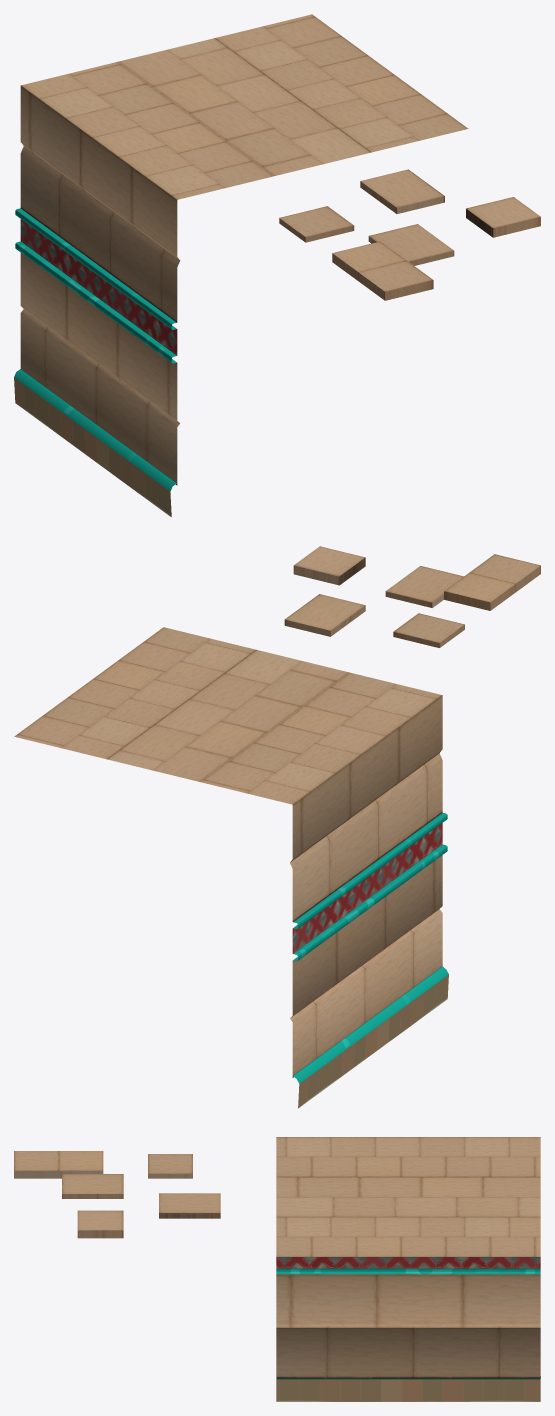
Rendered from Temple_DanceWall.fbx.
The picture shows the model from 3 angles, top to bottom: view 1: azimuth 30°, elevation 25°; view 2: azimuth 150°, elevation 25°; view 3: azimuth 270°, elevation 25°; orthographic projection. The views are drawn at different scales.
Visible parts, largest first — view 1: Cube_004__2_.002, Cube_004__2_.003, Cube_004__2_.001, Cube_004__2_.004, Cube_004__2_.006, Cube_004__2_.007, Cube_004__2_.005; view 2: Cube_004__2_.002, Cube_004__2_.003, Cube_004__2_.001, Cube_004__2_.004, Cube_004__2_.006, Cube_004__2_.007, Cube_004__2_.005; view 3: Cube_004__2_.002, Cube_004__2_.003, Cube_004__2_.001, Cube_004__2_.004, Cube_004__2_.006, Cube_004__2_.007, Cube_004__2_.005.
Part boxes in pixels (x1,y1,x2,y2): Cube_004__2_.002: (15,85,180,485); Cube_004__2_.003: (21,14,468,199); Cube_004__2_.001: (14,369,176,517); Cube_004__2_.004: (332,224,454,300); Cube_004__2_.006: (360,169,444,213); Cube_004__2_.007: (466,197,540,237); Cube_004__2_.005: (279,206,354,242); Cube_004__2_.002: (290,695,447,1077); Cube_004__2_.003: (14,627,442,804); Cube_004__2_.001: (293,966,448,1108); Cube_004__2_.004: (385,554,540,610); Cube_004__2_.006: (284,594,365,636); Cube_004__2_.007: (293,546,365,585); Cube_004__2_.005: (393,613,464,647); Cube_004__2_.002: (276,1257,540,1378); Cube_004__2_.003: (276,1137,540,1256); Cube_004__2_.001: (276,1376,540,1401); Cube_004__2_.004: (14,1151,123,1198); Cube_004__2_.006: (159,1193,220,1218); Cube_004__2_.007: (77,1210,123,1238); Cube_004__2_.005: (148,1154,192,1178).
Size of the model in its own units: 2788 by 2911 by 5055.
